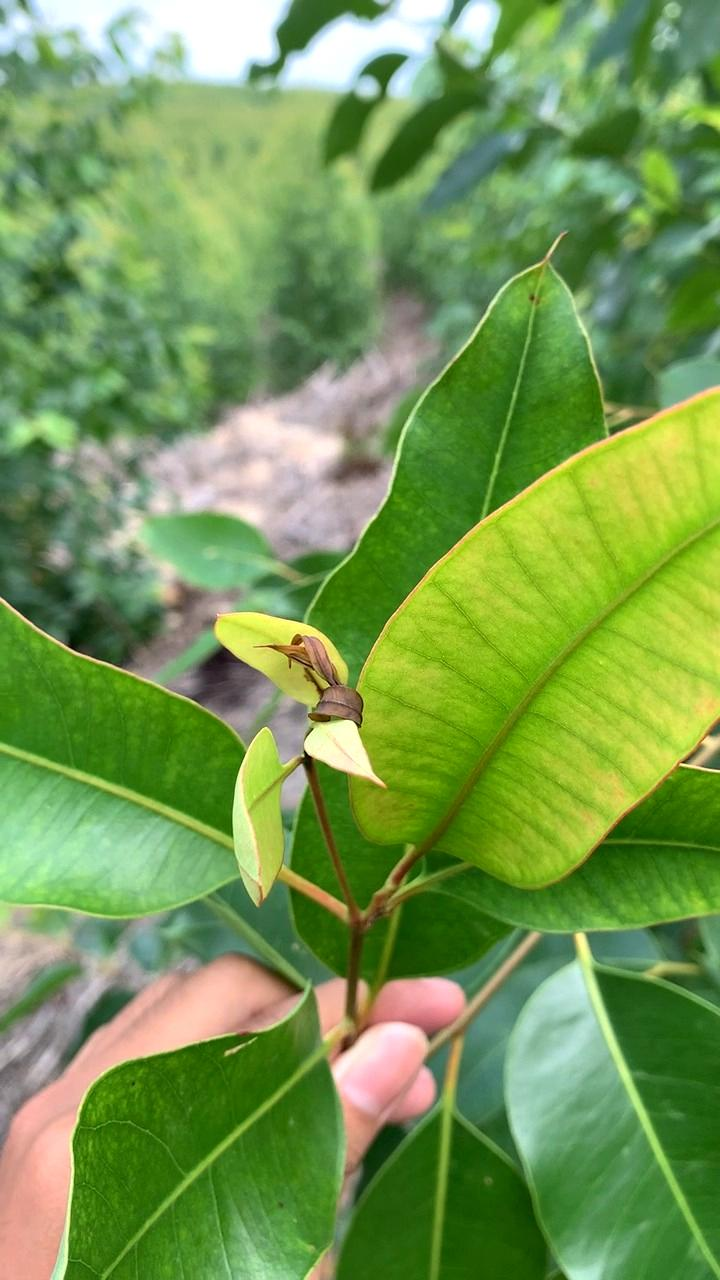Helopeltis-Withered Sprout: (243, 588, 409, 825)
